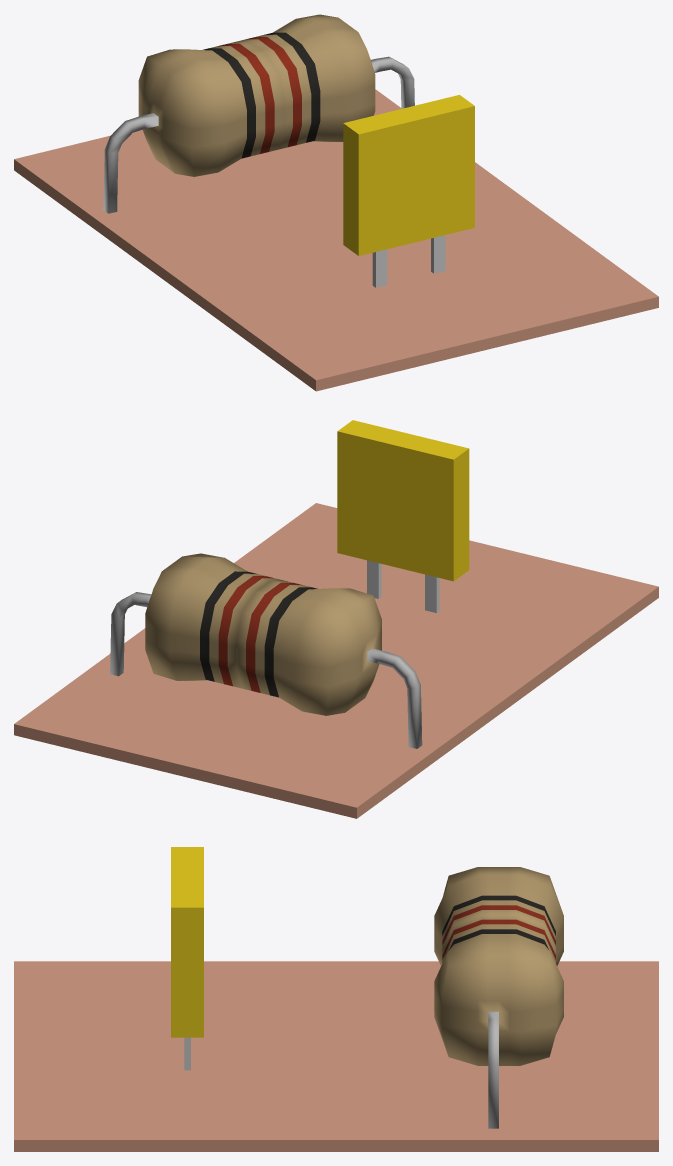
The model's file is modelFilter.gltf.
3 views of the same model, one above another, from view 1: azimuth 30°, elevation 25°; view 2: azimuth 150°, elevation 25°; view 3: azimuth 270°, elevation 25° (orthographic). The views are drawn at different scales.
Parts seen in each view (by area): view 1: Cube, Roundcube.001, Cube.001; view 2: Cube, Roundcube.001, Cube.001; view 3: Cube, Roundcube.001, Cube.001.
Boxes of the visible parts, left/top/right/bottom form: Cube: left=14, top=89, right=658, bottom=391; Roundcube.001: left=103, top=14, right=414, bottom=213; Cube.001: left=343, top=95, right=474, bottom=287; Cube: left=14, top=503, right=658, bottom=818; Roundcube.001: left=110, top=553, right=422, bottom=748; Cube.001: left=337, top=420, right=469, bottom=612; Cube: left=14, top=961, right=658, bottom=1151; Roundcube.001: left=434, top=867, right=563, bottom=1128; Cube.001: left=171, top=847, right=203, bottom=1070.
Bounding box in the file's own units: 0.5894 × 0.2872 × 0.8995.
